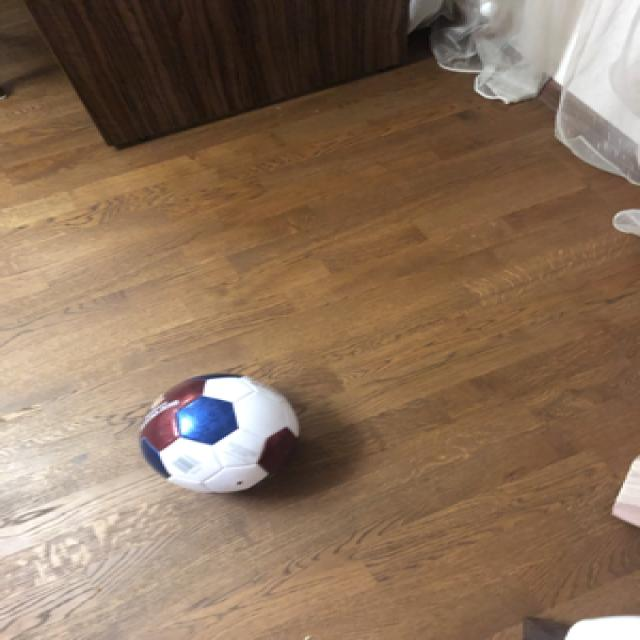soccer_ball: (138, 371, 296, 493)
